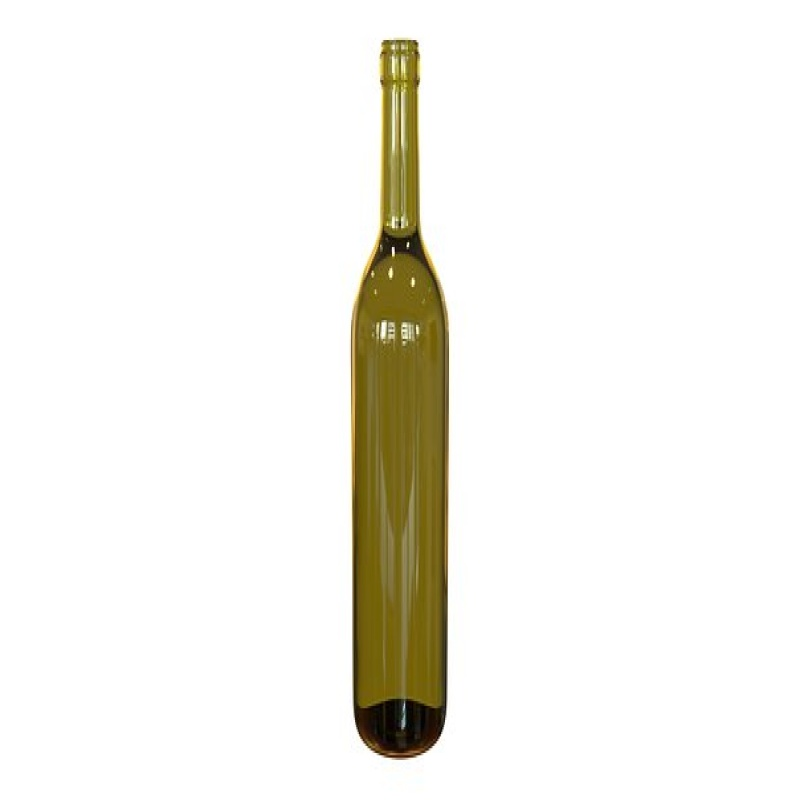wine: (339, 39, 472, 760)
